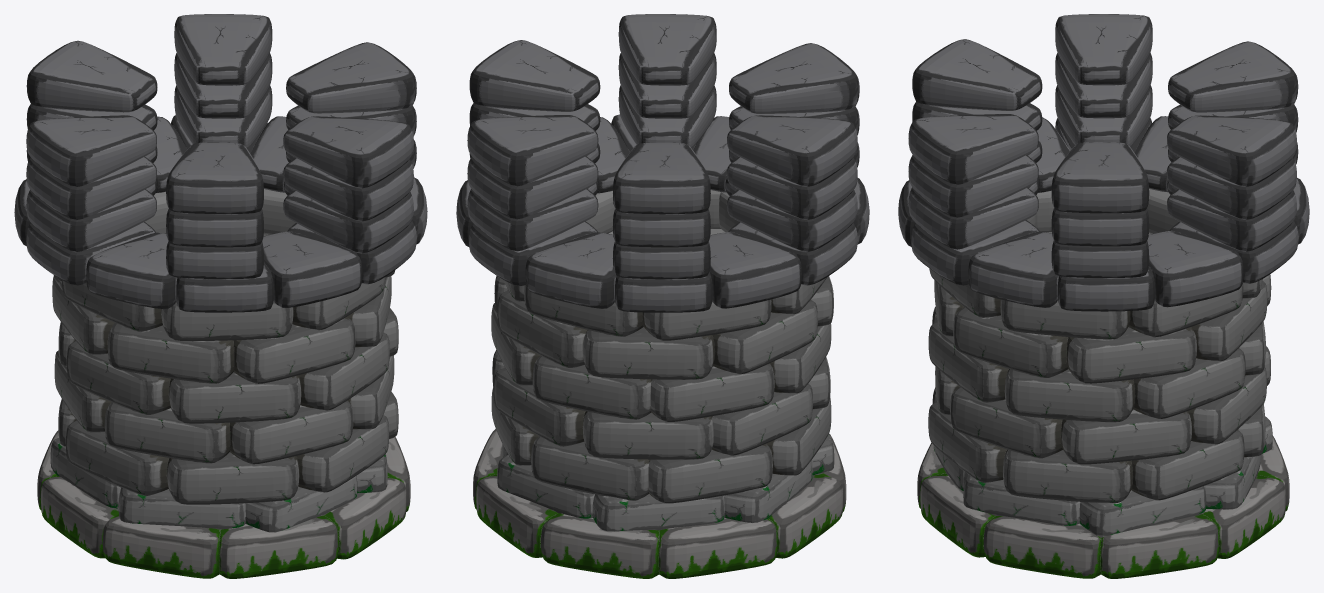
Rendered from Wizard_Tower.fbx.
3 views of the same model, side by side, from view 1: azimuth 30°, elevation 25°; view 2: azimuth 150°, elevation 25°; view 3: azimuth 270°, elevation 25° (orthographic).
Parts seen in each view (by area): view 1: Cube.011, Cube.008, Cube, Cube.010, Cube.009, Cube.006, Cube.003, Cube.005, Cube.004, Cube.007, Cube.001; view 2: Cube.011, Cube.008, Cube, Cube.010, Cube.009, Cube.006, Cube.004, Cube.003, Cube.005, Cube.001, Cube.007; view 3: Cube.011, Cube.008, Cube, Cube.010, Cube.009, Cube.006, Cube.005, Cube.004, Cube.003, Cube.007, Cube.001.
Boxes of the visible parts, x1,y1,x2,y2 form: Cube.011: [26, 14, 416, 213]; Cube.008: [14, 115, 427, 312]; Cube: [37, 430, 410, 578]; Cube.010: [26, 53, 416, 247]; Cube.009: [26, 85, 416, 278]; Cube.006: [52, 234, 391, 383]; Cube.003: [58, 392, 398, 504]; Cube.005: [58, 308, 398, 423]; Cube.004: [54, 350, 394, 464]; Cube.007: [57, 189, 395, 341]; Cube.001: [50, 438, 387, 532]; Cube.011: [467, 14, 859, 214]; Cube.008: [456, 114, 869, 312]; Cube: [473, 429, 846, 578]; Cube.010: [467, 53, 859, 247]; Cube.009: [467, 85, 859, 279]; Cube.006: [494, 229, 833, 379]; Cube.004: [492, 350, 830, 459]; Cube.003: [491, 387, 831, 503]; Cube.005: [491, 303, 831, 421]; Cube.001: [497, 435, 834, 531]; Cube.007: [504, 190, 827, 340]; Cube.011: [908, 14, 1298, 213]; Cube.008: [898, 116, 1309, 311]; Cube: [917, 435, 1289, 578]; Cube.010: [908, 53, 1298, 246]; Cube.009: [908, 85, 1298, 277]; Cube.006: [934, 232, 1271, 383]; Cube.005: [928, 307, 1265, 422]; Cube.004: [935, 346, 1270, 464]; Cube.003: [928, 387, 1265, 502]; Cube.007: [929, 189, 1262, 339]; Cube.001: [933, 416, 1272, 537].
Bounding box in the file's own units: 494 × 540 × 494.
Materials: 11 (11 with a texture image).
